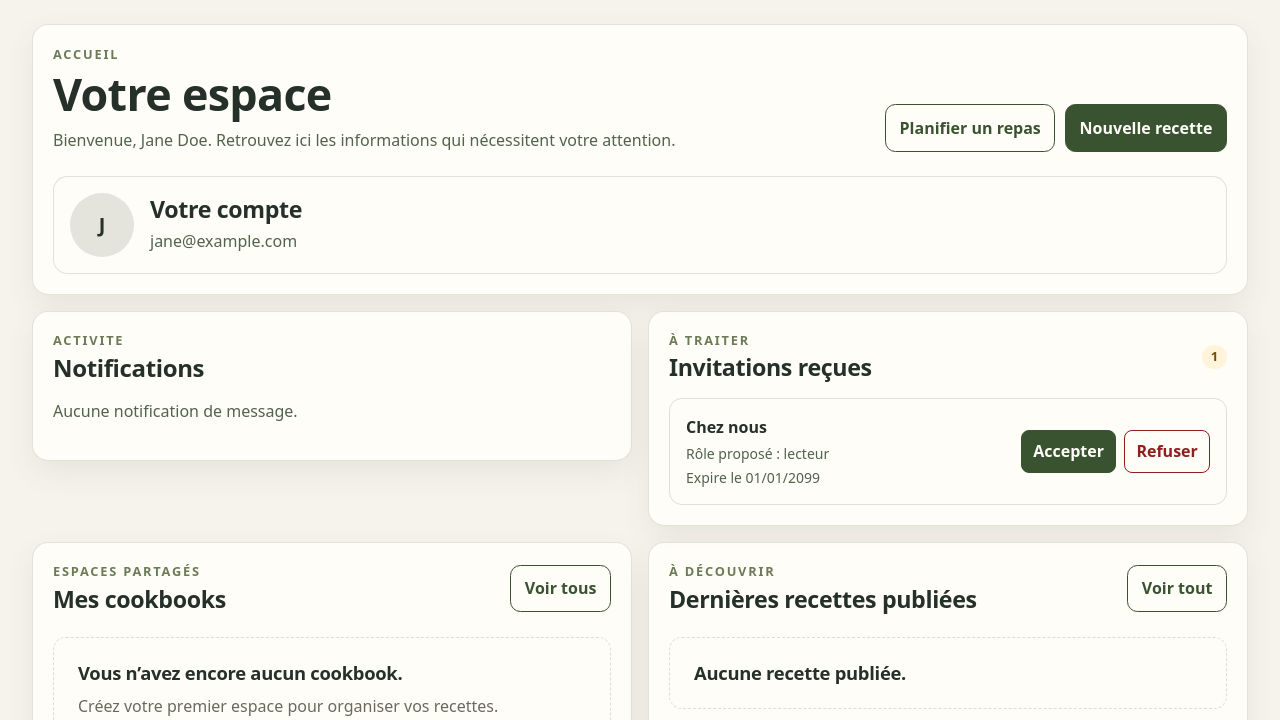
Scenario: DashboardView › lists pending invitations and accepts one
Click the button with class "accept-button" at [1069, 452], box top-left (1021, 430), bottom-right (1116, 473)
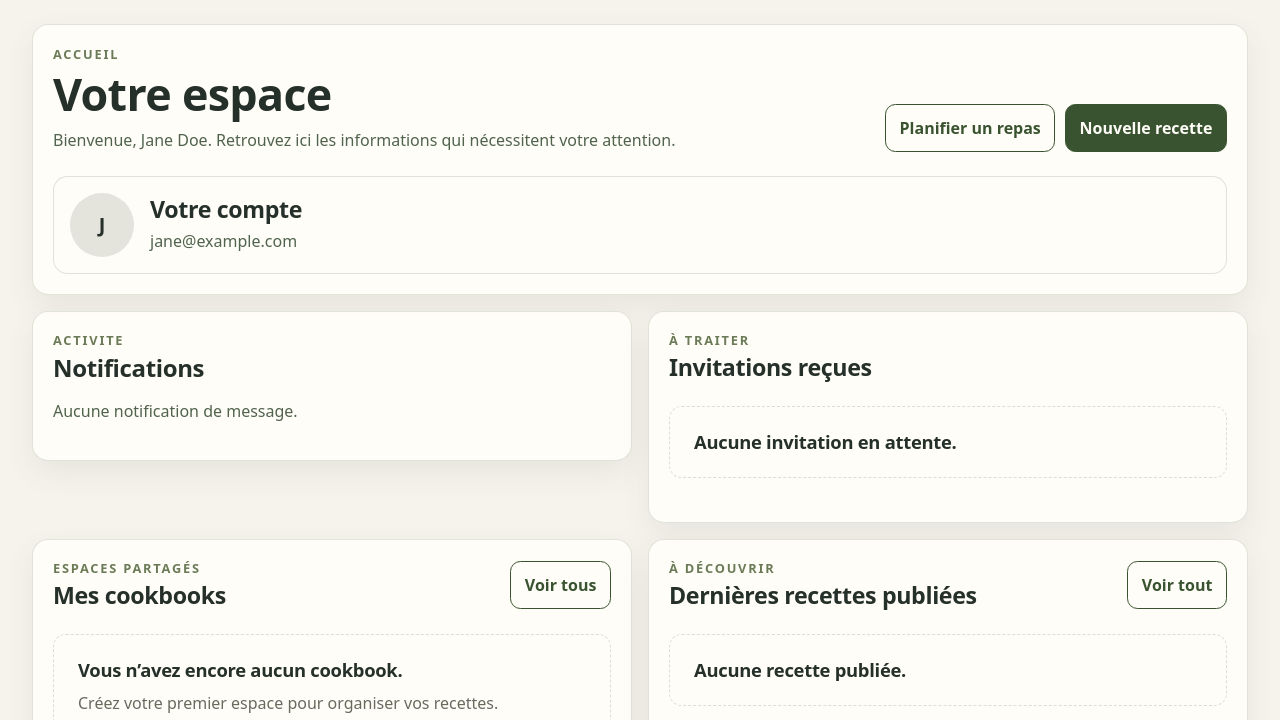
Now the text "Aucune invitation en attente." is shown, box top-left (694, 429), bottom-right (957, 454)
